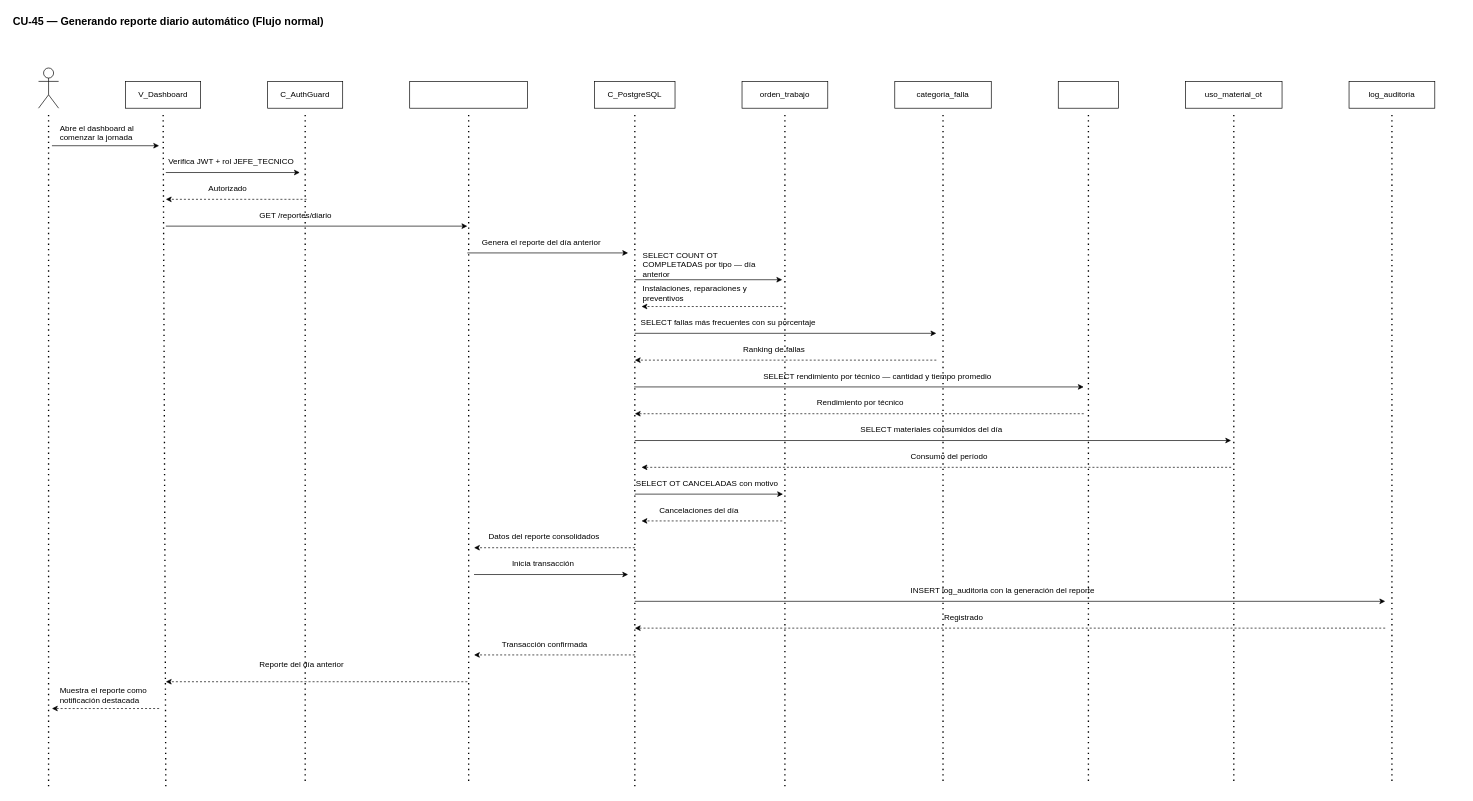
This 1473x801 diagram has some shape labels left out. The shapes that lost their labels are listed below. From the top down, each one's centre as x and y in pixels, then its label:
At pixel 48 87: "Jefe Técnico".
At pixel 468 94: "C_ReporteController".
At pixel 1088 94: "usuario".
